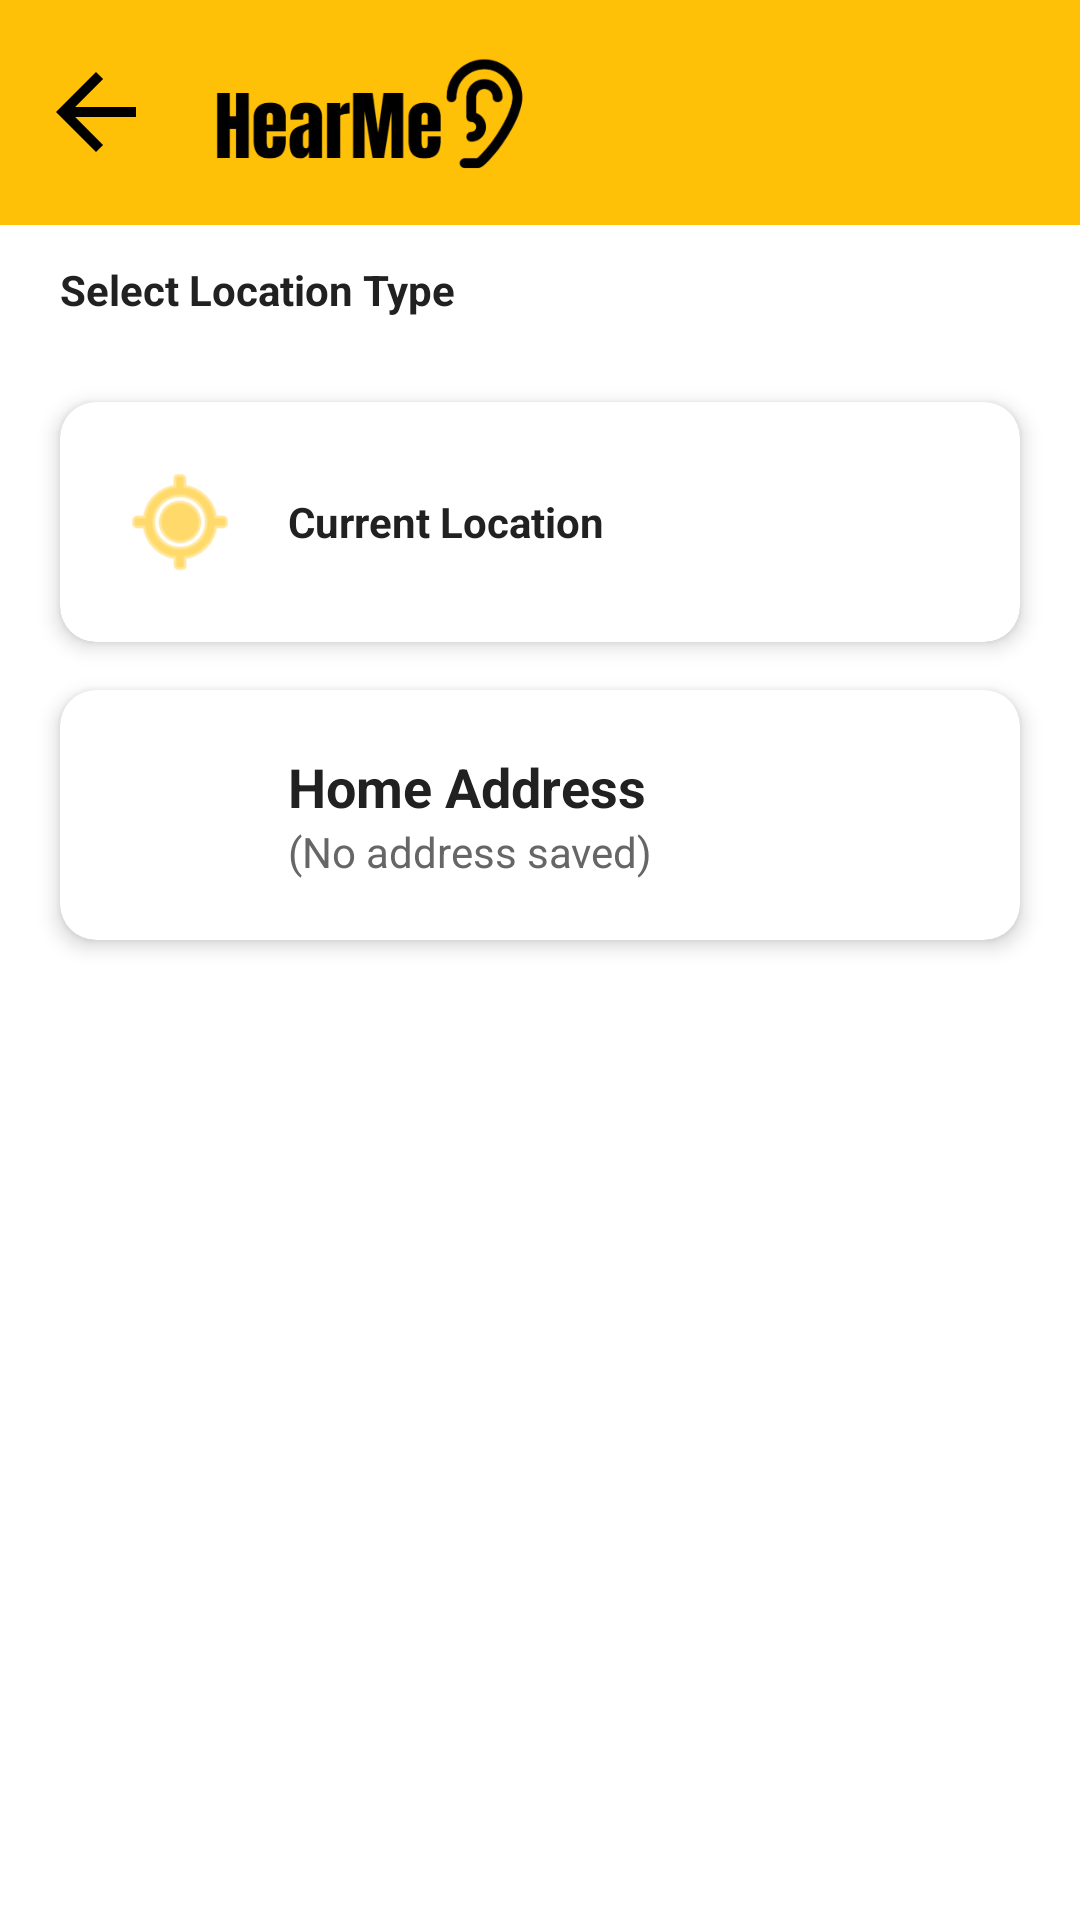

Named icons in this screenshot (1080 x 1920) and their centers, (x=x, y=y):
back: (x=96, y=112)
mylocation: (x=180, y=522)
